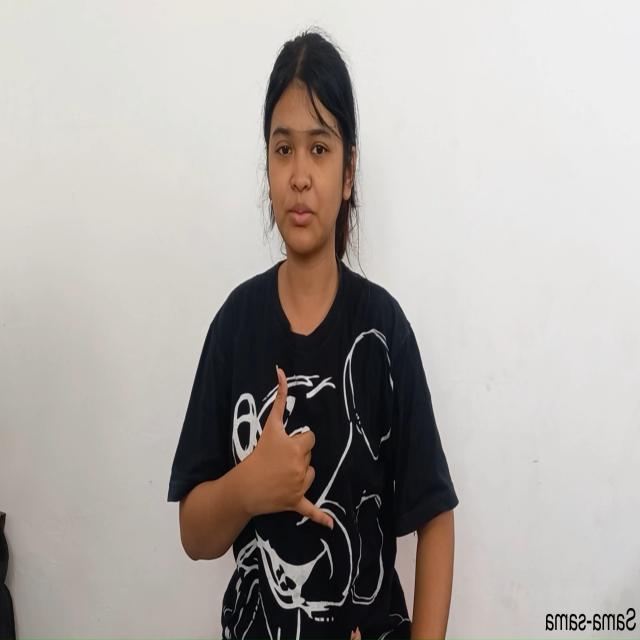Sama-sama -BISINDO-: (235, 360, 335, 545)
